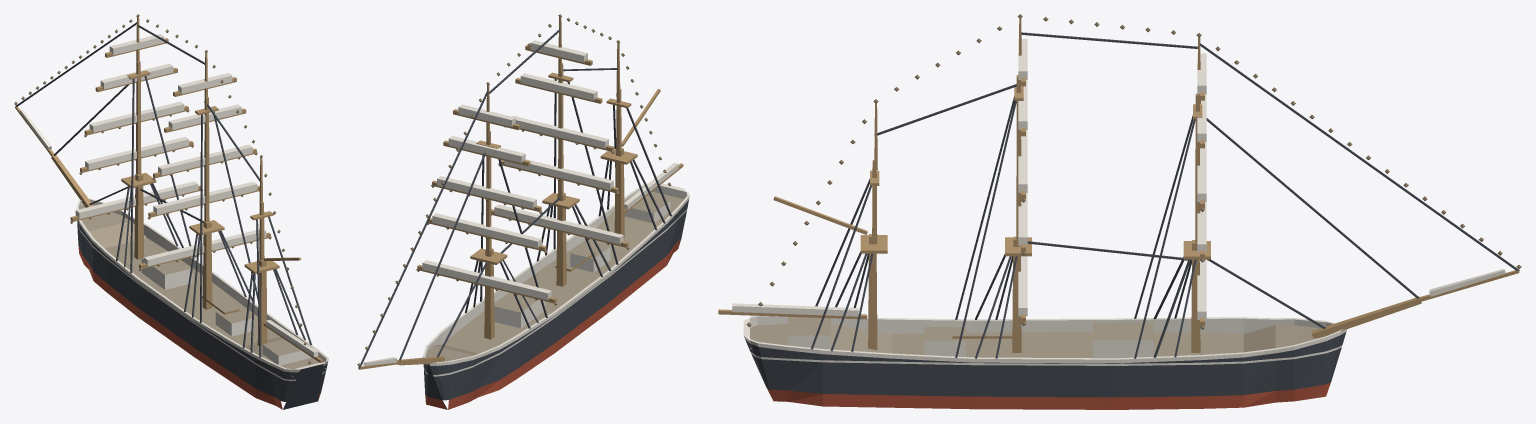
Rendered from sd-star-of-india.glb.
3 renders of one model, left to right at view 1: azimuth 30°, elevation 25°; view 2: azimuth 150°, elevation 25°; view 3: azimuth 270°, elevation 25°, orthographic. The views are drawn at different scales.
Parts seen in each view (by area): view 1: Star of India; view 2: Star of India; view 3: Star of India.
Part boxes in pixels (x1=…): Star of India: x1=14, y1=14, x2=328, y2=409; Star of India: x1=357, y1=14, x2=689, y2=409; Star of India: x1=718, y1=14, x2=1521, y2=409.
Size of the model in its own units: 21.6 by 44.3 by 85.81.
